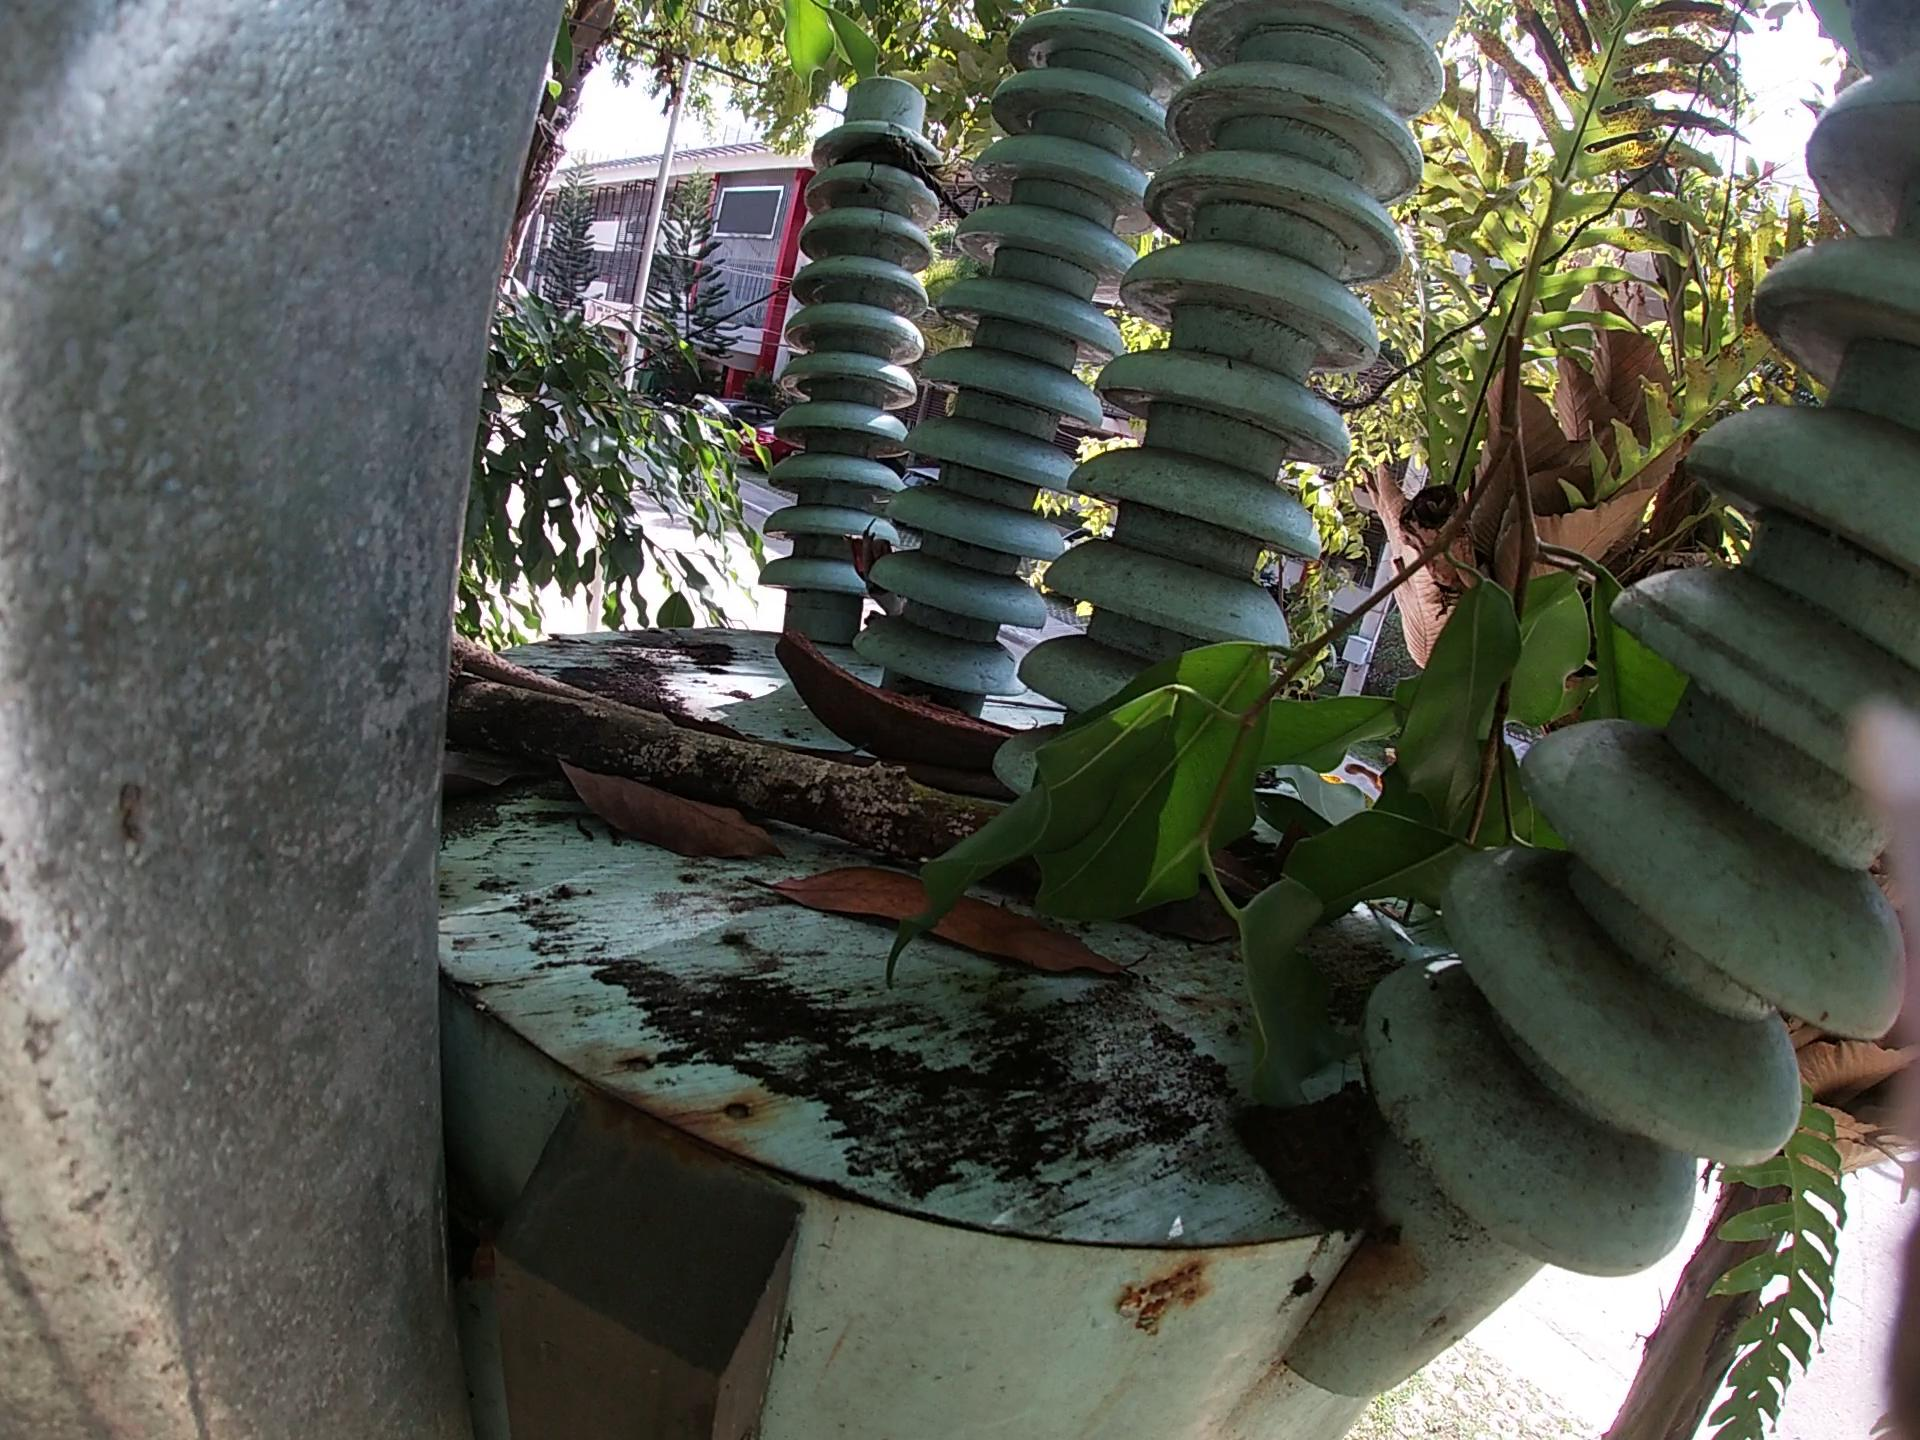branch with leaves: (927, 298, 1677, 1169)
leaf: (757, 879, 1143, 1004), (564, 771, 788, 867)
mahogany fruit: (763, 640, 1039, 779)
tree branch: (443, 672, 1042, 871), (454, 638, 679, 718)
